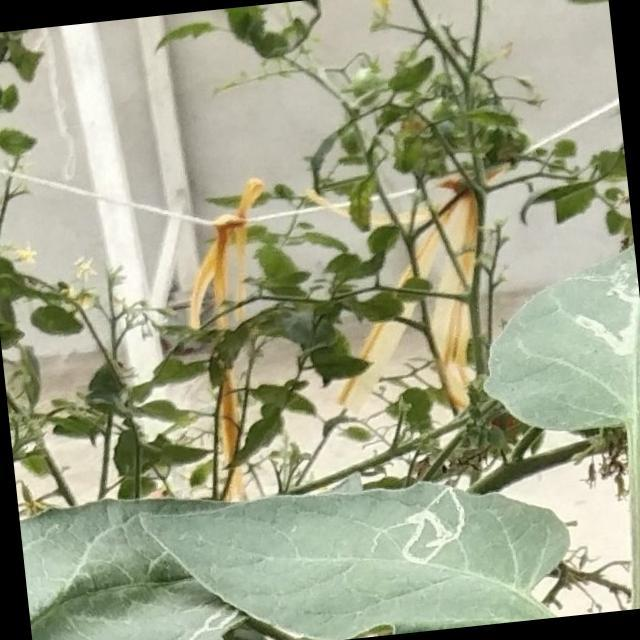Tomato target spot leaf: (137, 465, 580, 640), (471, 240, 640, 459), (160, 595, 245, 640)
